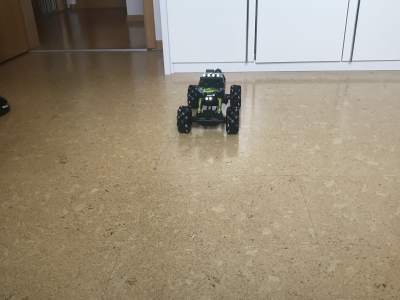remote control car: (173, 68, 244, 137)
